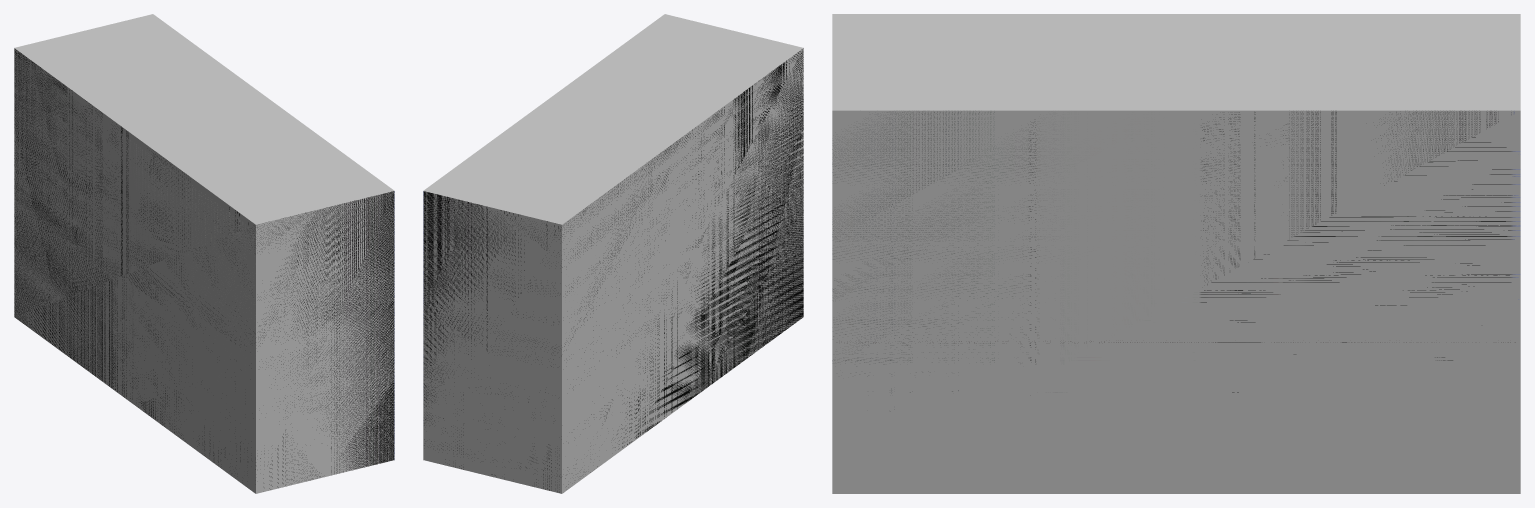
Rendered from deli_fridge_01.DAE.
The picture shows the model from 3 angles, left to right: view 1: azimuth 30°, elevation 25°; view 2: azimuth 150°, elevation 25°; view 3: azimuth 270°, elevation 25°; orthographic projection. The views are drawn at different scales.
Parts seen in each view (by area): view 1: bounds, colbox-1, deli_fridge_one100; view 2: bounds, colbox-1; view 3: bounds, colbox-1.
Boxes of the visible parts, x1=… form: bounds: x1=14, y1=14, x2=394, y2=493; colbox-1: x1=14, y1=49, x2=394, y2=489; deli_fridge_one100: x1=14, y1=55, x2=255, y2=408; bounds: x1=423, y1=14, x2=803, y2=493; colbox-1: x1=423, y1=48, x2=803, y2=492; bounds: x1=832, y1=14, x2=1520, y2=493; colbox-1: x1=832, y1=110, x2=1520, y2=411.
Size of the model in its own units: 106 by 320 by 196.
